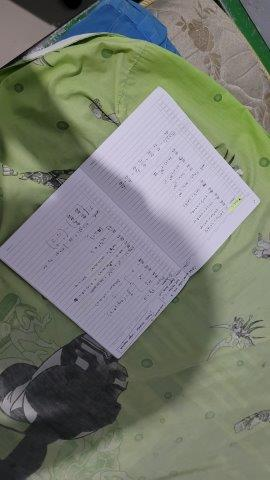kertas: (1, 85, 263, 359)
